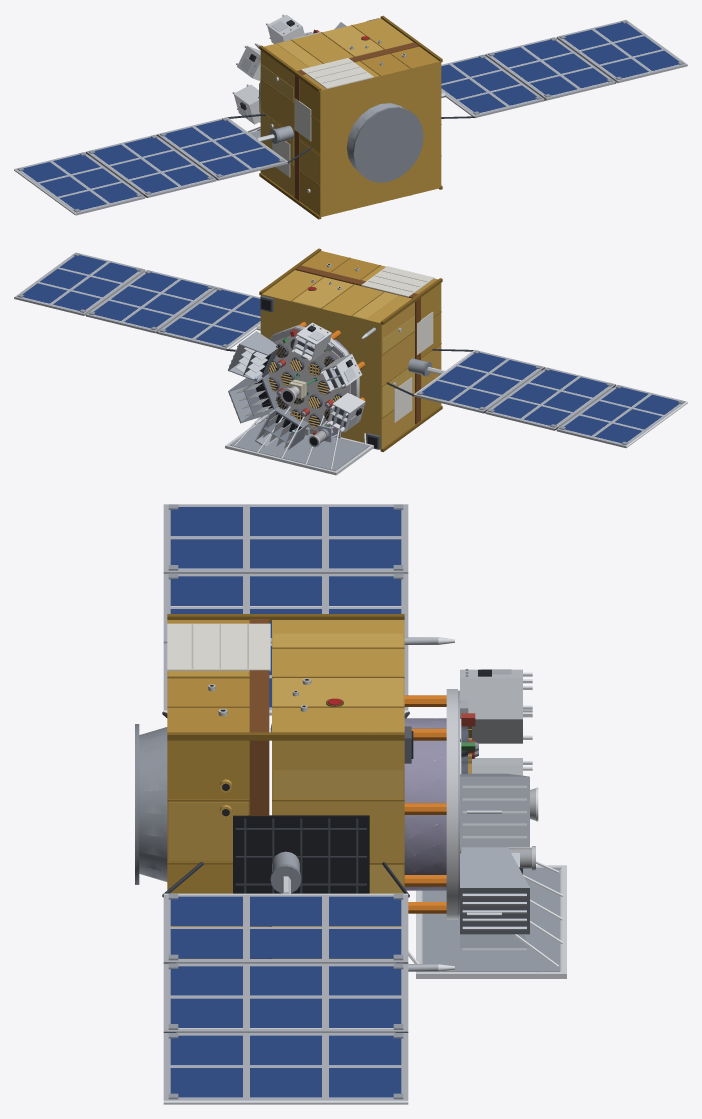
The model's file is hxmt.glb.
3 renders of one model, top to bottom at view 1: azimuth 30°, elevation 25°; view 2: azimuth 150°, elevation 25°; view 3: azimuth 270°, elevation 25°, orthographic. The views are drawn at different scales.
Parts seen in each view (by area): view 1: foil, solar-panel, body; view 2: body, solar-panel, foil; view 3: body, solar-panel, foil.
Boxes of the visible parts, bbox=[...] form: foil: bbox=[248, 15, 442, 219]; solar-panel: bbox=[22, 22, 679, 210]; body: bbox=[14, 14, 687, 215]; body: bbox=[14, 252, 687, 475]; solar-panel: bbox=[22, 255, 679, 443]; foil: bbox=[230, 248, 442, 471]; body: bbox=[135, 504, 566, 1104]; solar-panel: bbox=[170, 507, 401, 1097]; foil: bbox=[167, 614, 561, 972].
Size of the model in its own units: 10.13 by 2.07 by 3.09.
